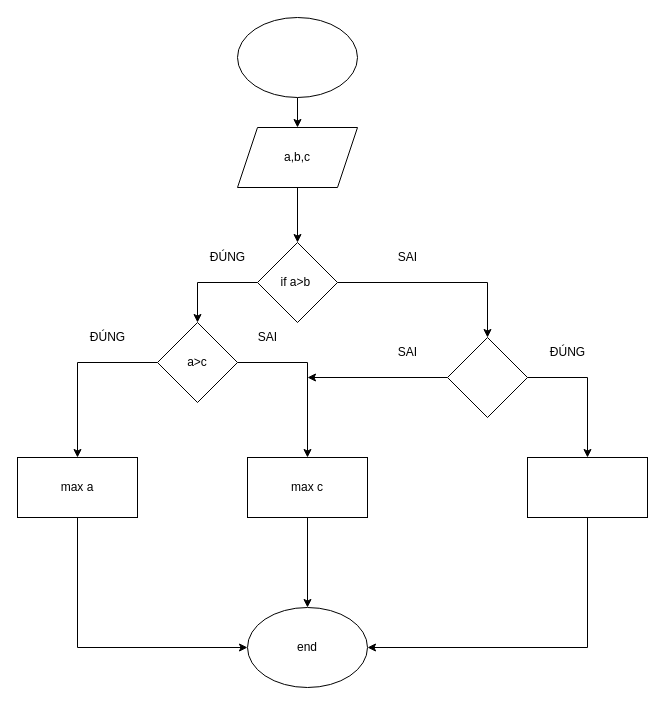
Image size: 665x705. Some labels were removed from this diagram. The shapes that lost their labels are listed below. From the top down, each one's centre as x and y in pixels, then its label:
the point at 297,57: start
the point at 487,377: b>c
the point at 587,487: max b
